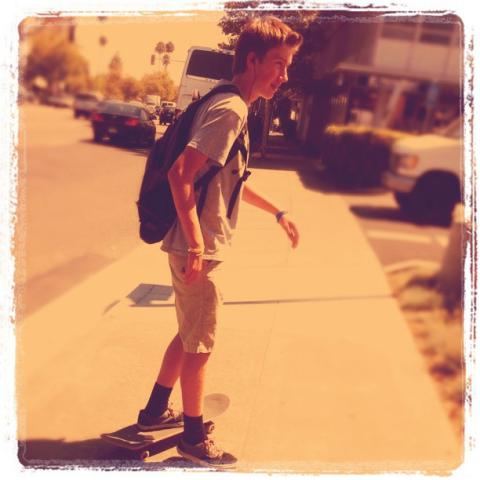car: (379, 119, 465, 224), (93, 101, 156, 146), (73, 90, 101, 119), (159, 106, 176, 125), (155, 106, 166, 116)
